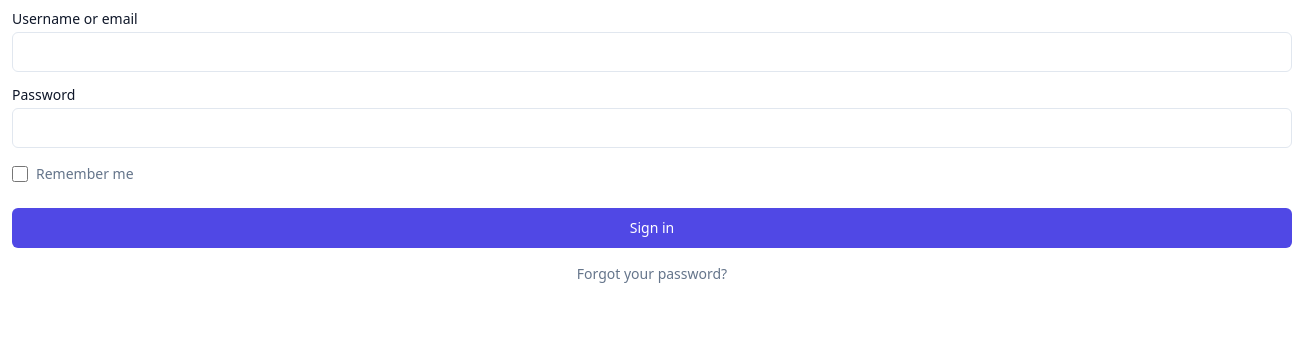
Test: LoginPage › shows the server error message on failed login
In the field labelled "Username or email": (652, 52) left=12, top=32, right=1292, bottom=72, type "alice"
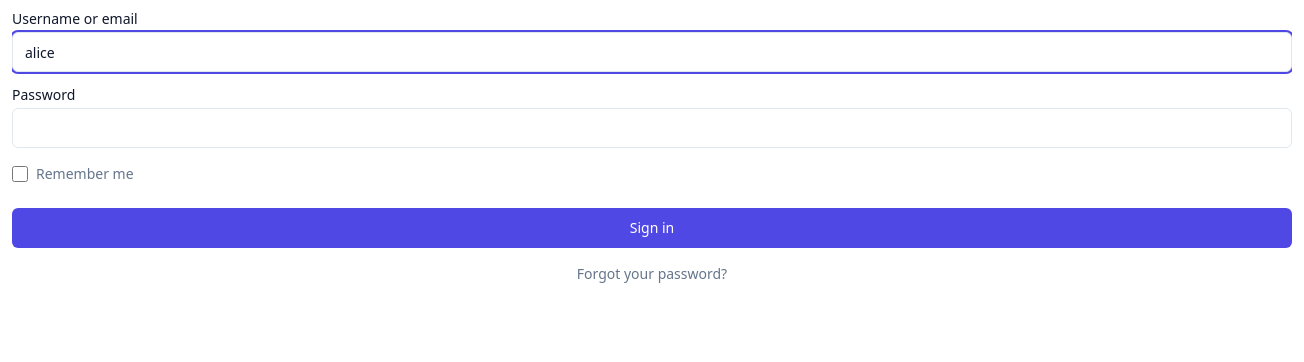
In the password field labelled "Password": (652, 128) left=12, top=108, right=1292, bottom=148, type "WrongPassword1!"
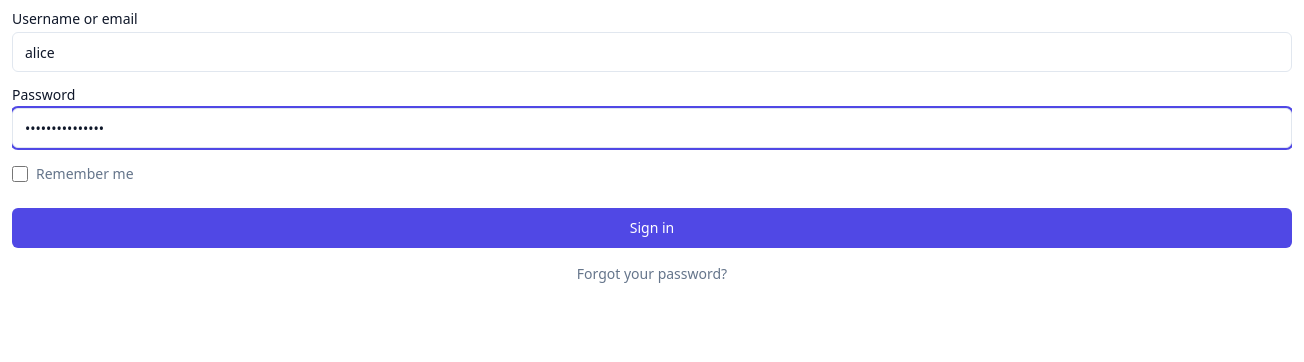
Click the button "Sign in": click(652, 228) left=12, top=208, right=1292, bottom=248
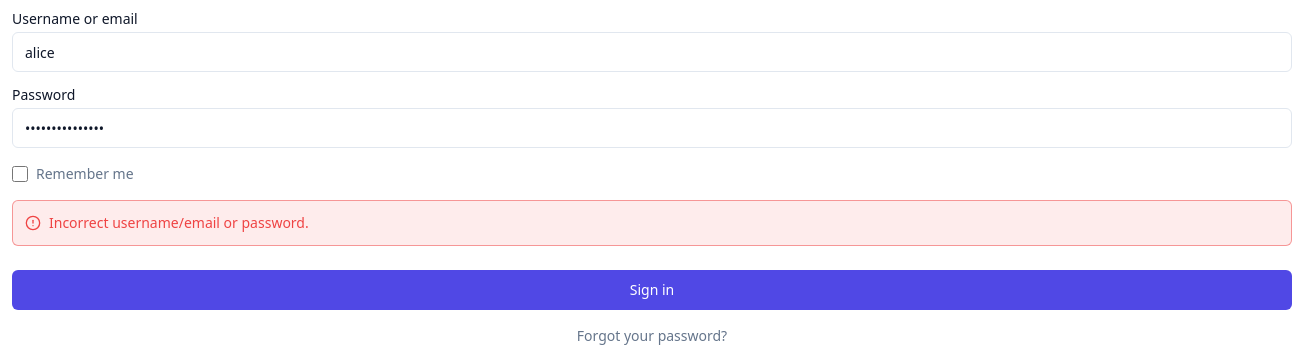
Check: the message reads "Incorrect username/email or password.", box left=49, top=213, right=309, bottom=232
